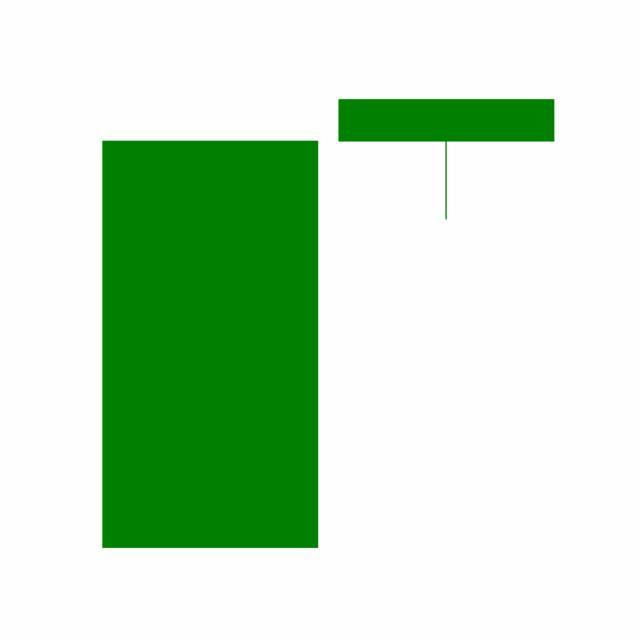Hanging Man: (328, 99, 566, 223)
